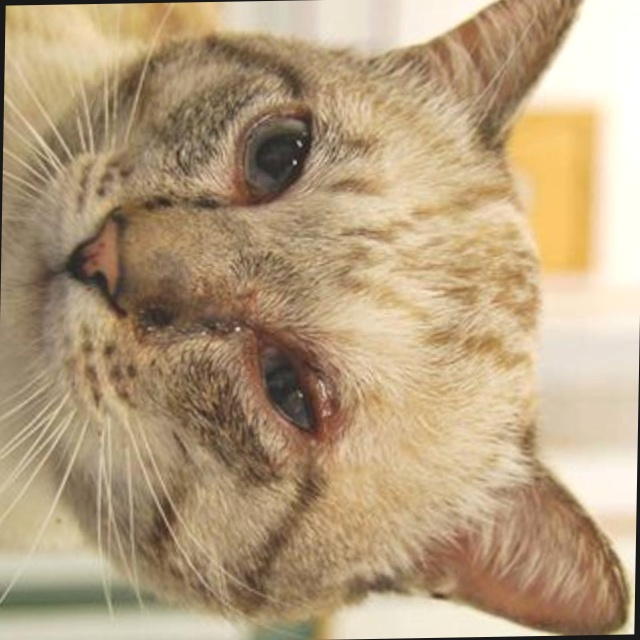eye_infection: (232, 101, 324, 211), (246, 330, 332, 442)
